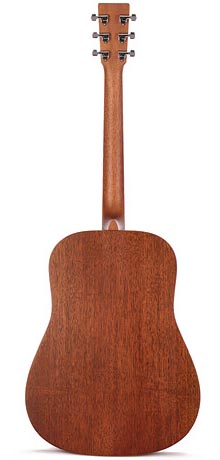guitar: (24, 1, 204, 456)
